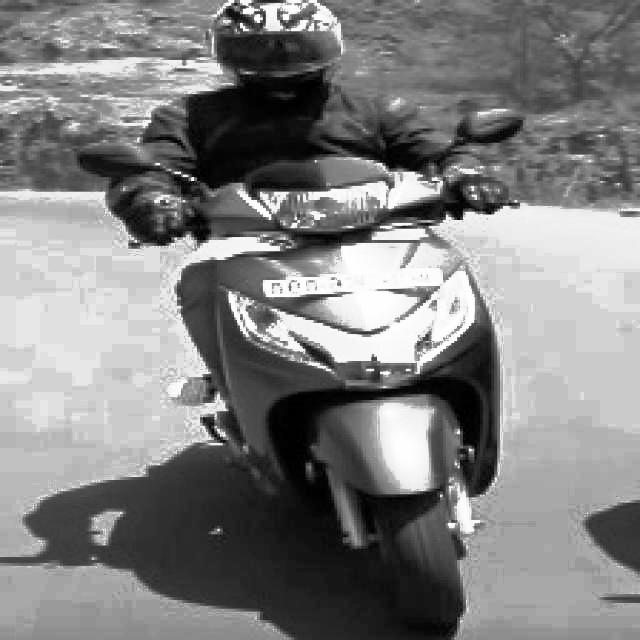Bike: (165, 180, 515, 618)
